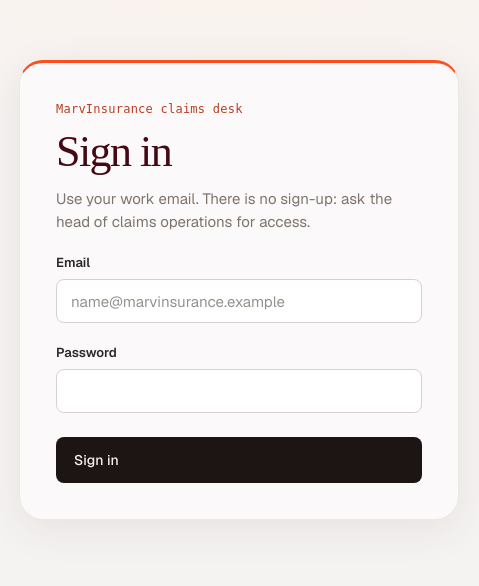
AuthProvider › says so when the email or password is wrong
In the field labelled "Email": coordinates (239, 301) [56, 279, 422, 323], type "x@example.com"
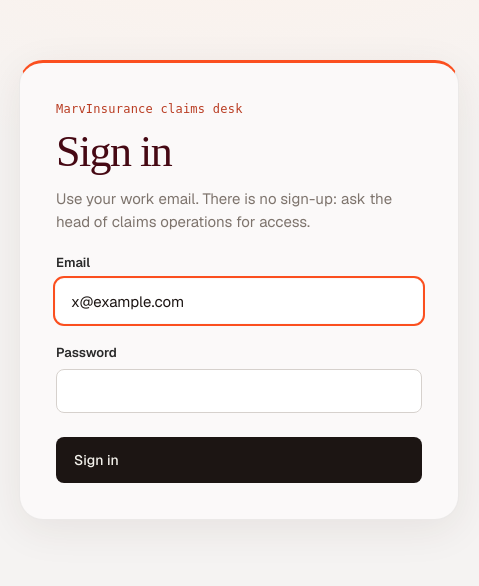
In the password field labelled "Password": coordinates (239, 392) [56, 370, 422, 414], type "nope"
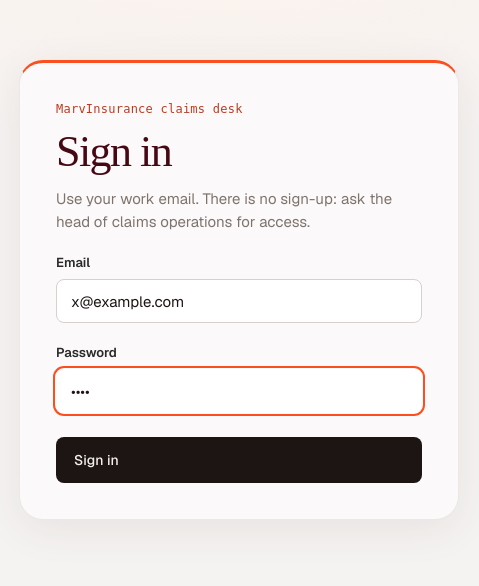
Click the button "Sign in": coordinates (96, 460) [56, 438, 422, 484]
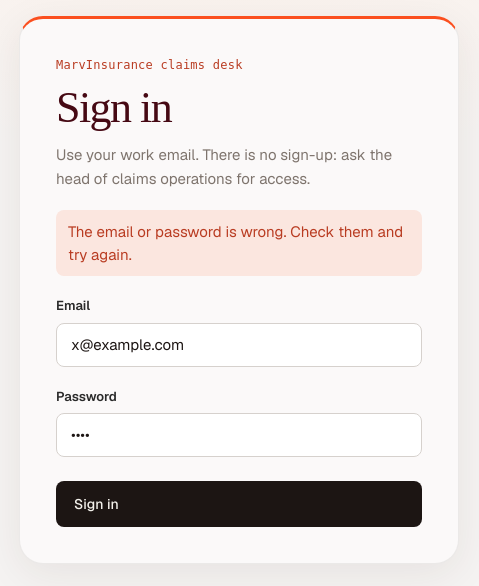
Expected: the text "The email or password is wrong. Check them and try again." is shown, [56, 210, 422, 276]
